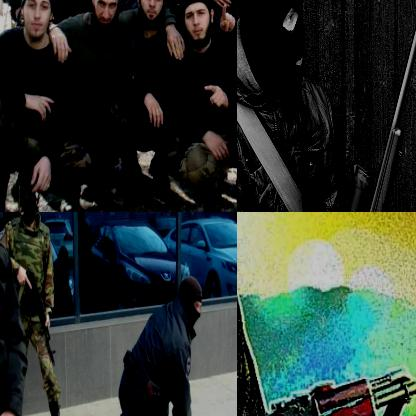rifle: (310, 0, 415, 211), (237, 336, 415, 415), (19, 269, 58, 370)
